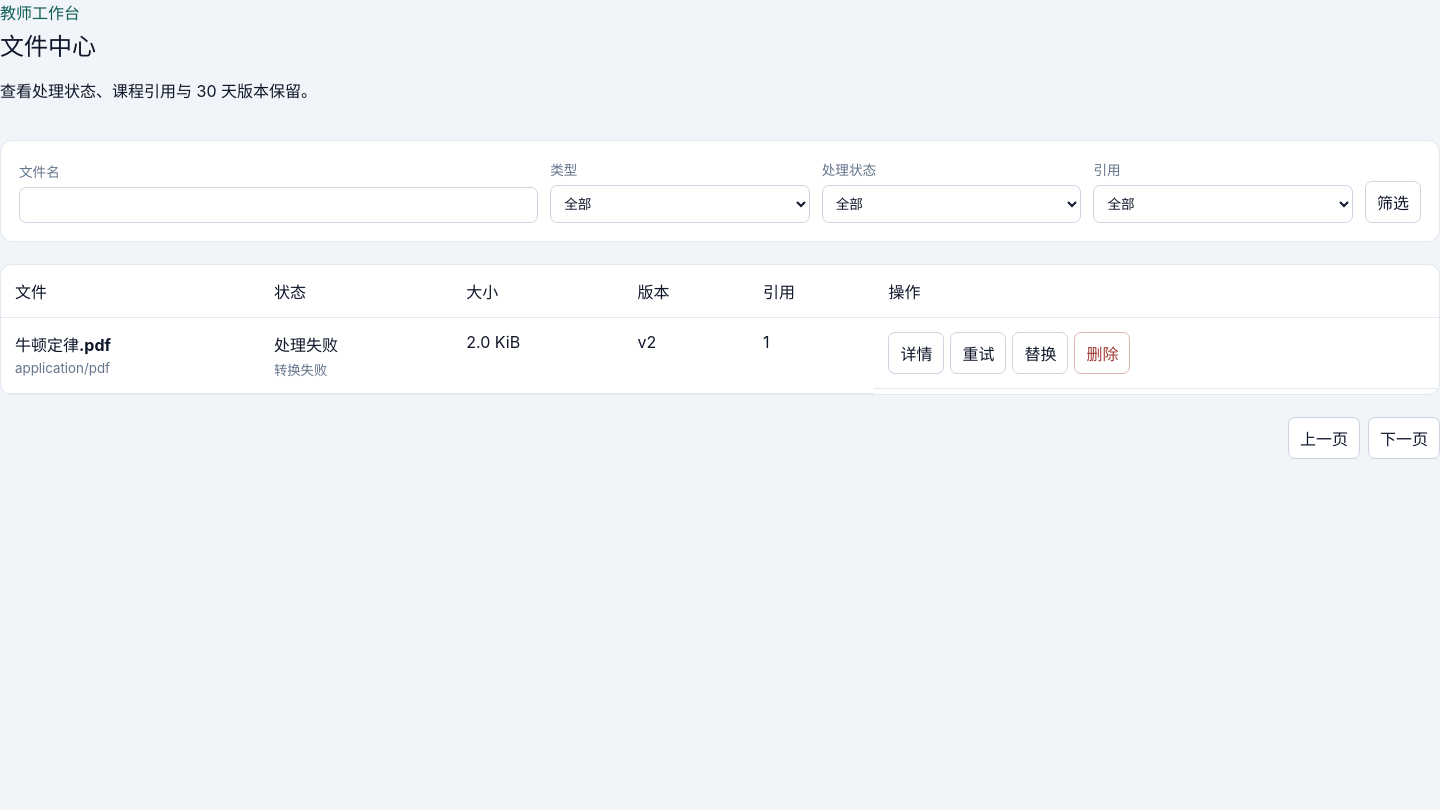
Test case: FileCenterView › confirms deletion and gives actionable file-in-use feedback
This screenshot has width=1440, height=810.
Click the button "删除" at (1102, 353), box [1074,332,1130,374]
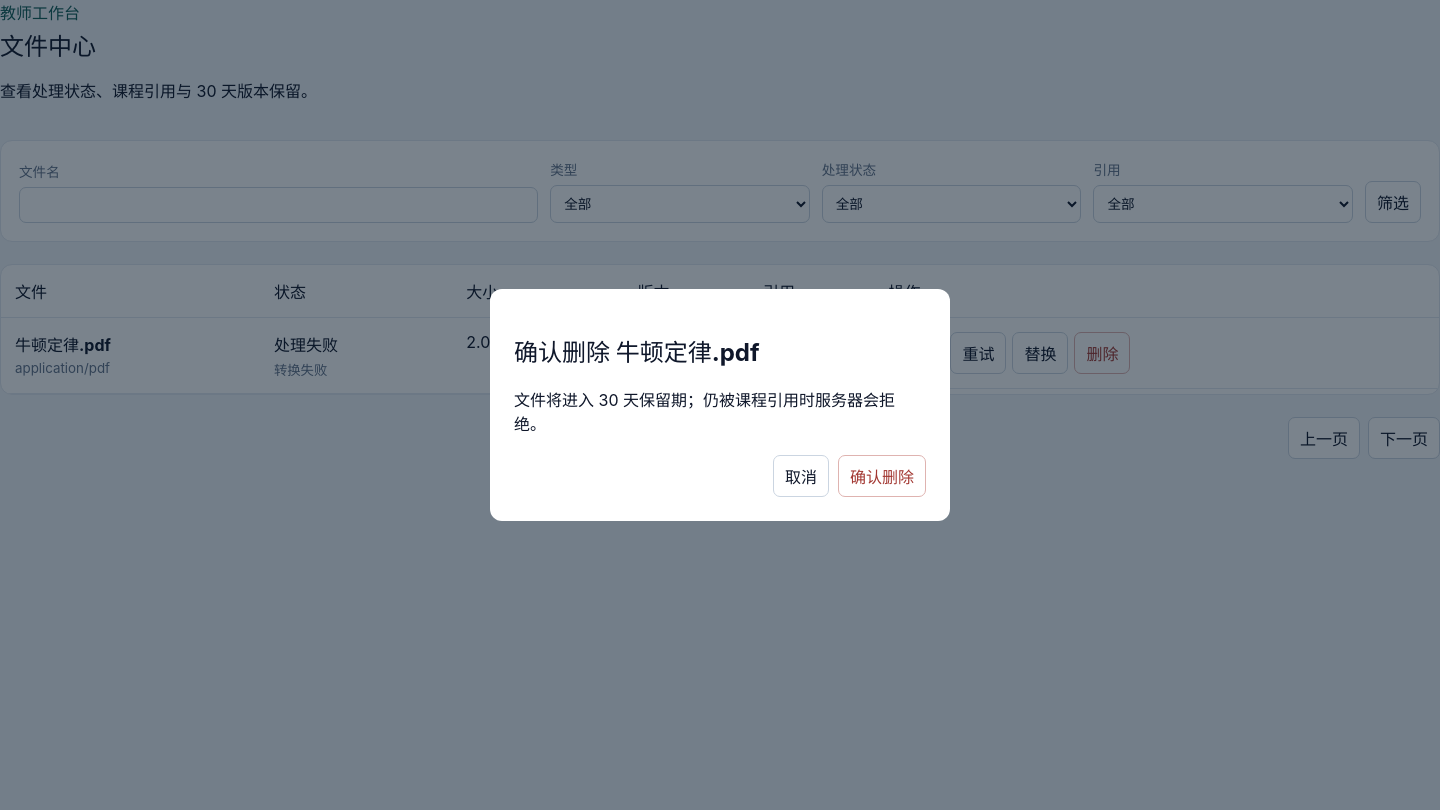
Check: the dialog shows "确认删除"
Click the button with aria-label "确认删除文件" at (882, 476), box [838,455,926,497]
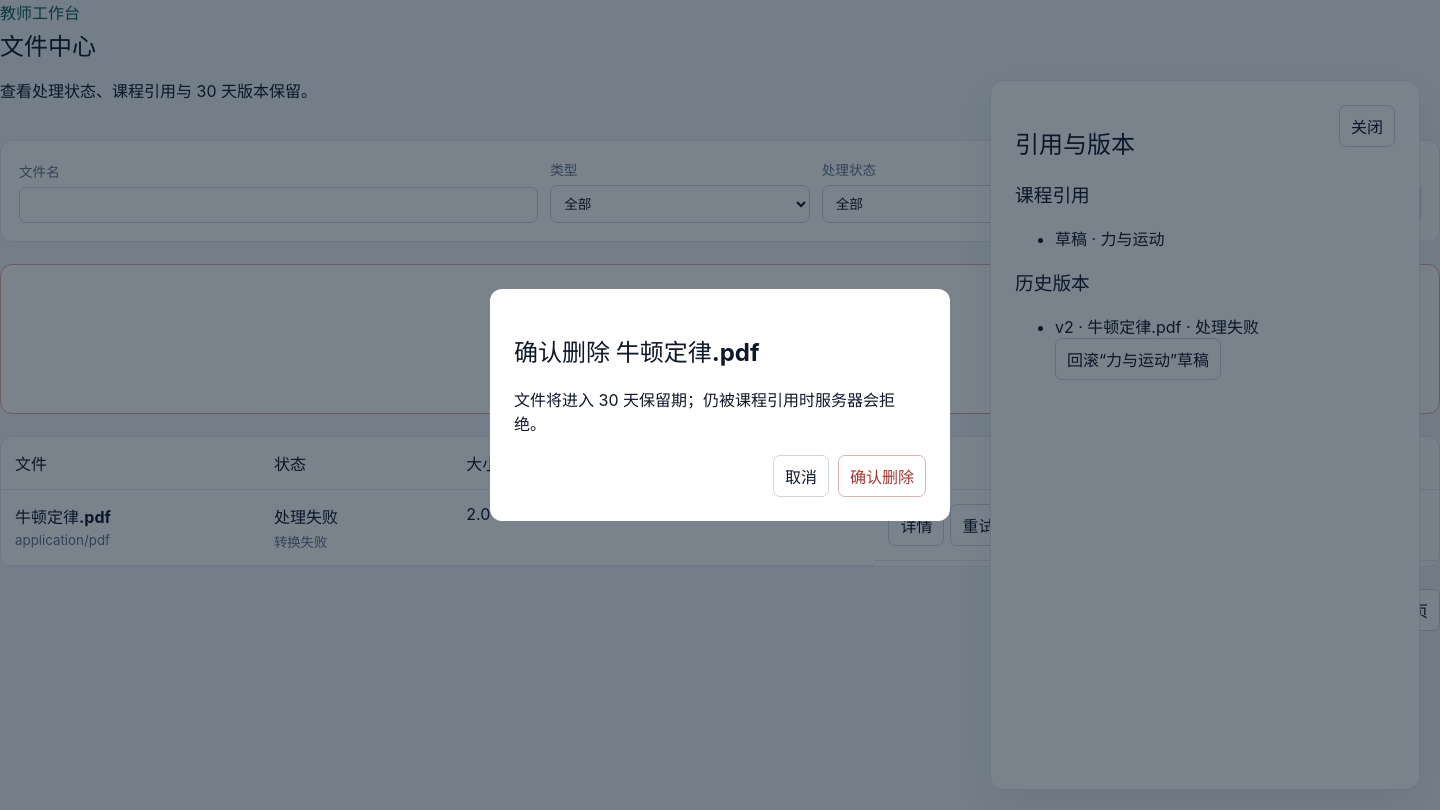
Check: the message "无法删除：文件仍被以下课程引用，请先解除草稿和发布引用。 支持编号：req-file-1" is shown, box [0,264,1439,414]
Check: the element named "文件详情" shows "草稿 · 力与运动", box [1055,228,1165,248]
